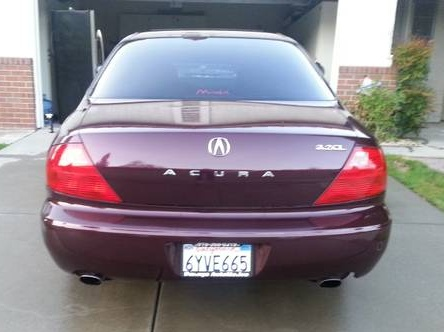acura: (35, 26, 406, 307)
